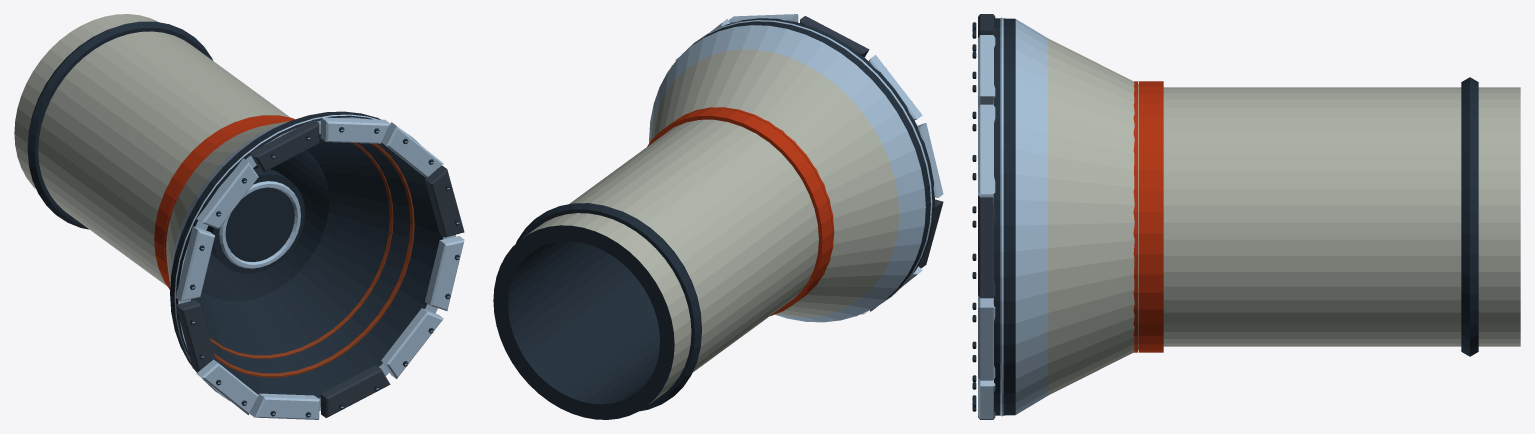
The model's file is ScrapSonic_Shell.obj.
3 renders of one model, left to right at view 1: azimuth 30°, elevation 25°; view 2: azimuth 150°, elevation 25°; view 3: azimuth 270°, elevation 25°, orthographic. The views are drawn at different scales.
Parts seen in each view (by area): view 1: DarkSteel, Casing, Steel, Housing, Copper, Tape; view 2: Casing, DarkSteel, Steel, Tape, Housing; view 3: Casing, Steel, DarkSteel, Tape, Housing.
Part boxes in pixels (x1,y1,x2,y2): DarkSteel: (27, 21, 460, 417); Casing: (14, 14, 289, 286); Steel: (170, 114, 464, 419); Housing: (175, 119, 464, 417); Copper: (209, 143, 414, 377); Tape: (154, 115, 294, 289); Casing: (522, 49, 899, 404); DarkSteel: (493, 18, 934, 419); Steel: (649, 14, 943, 322); Tape: (647, 107, 834, 316); Housing: (671, 16, 943, 268); Casing: (1048, 38, 1520, 395); Steel: (972, 17, 1047, 418); DarkSteel: (972, 18, 1478, 415); Tape: (1133, 81, 1163, 352); Housing: (978, 14, 995, 419).
Size of the model in its own units: 0.5638 by 0.5638 by 0.7598.
